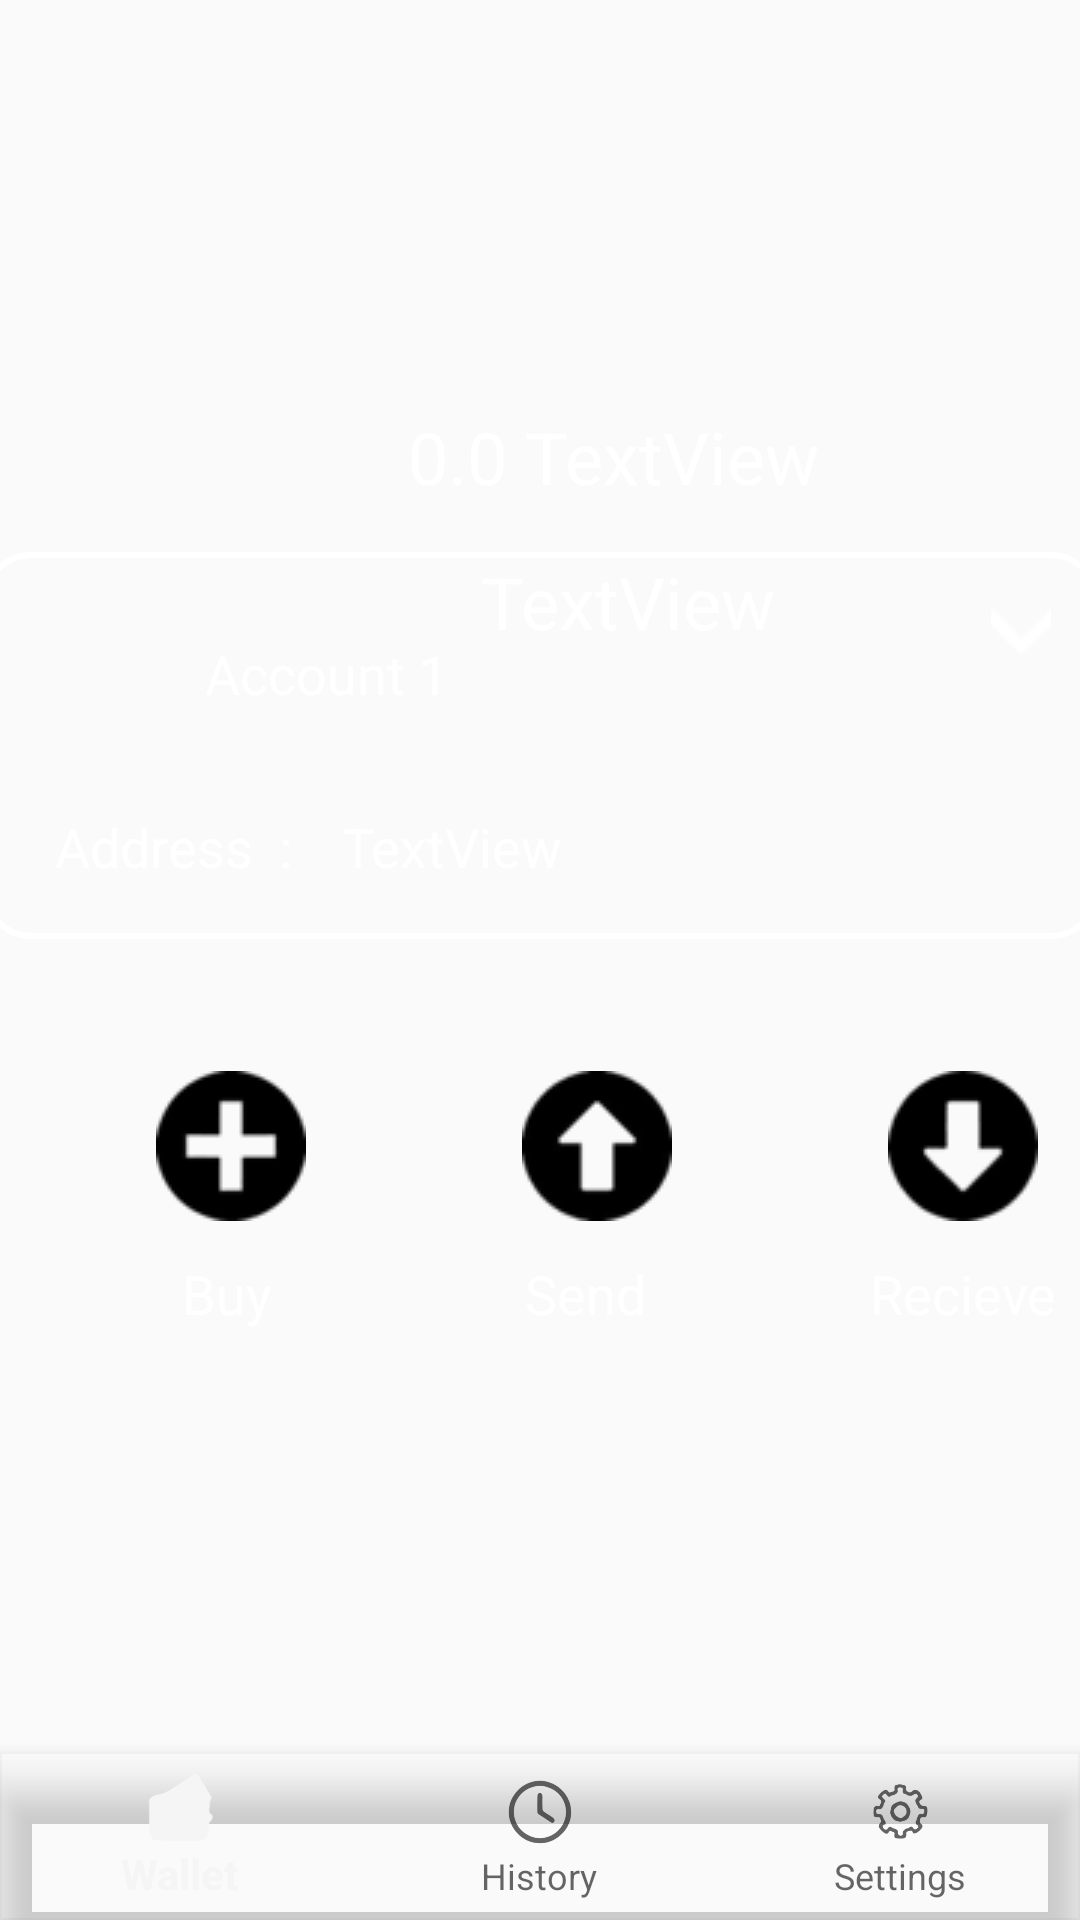

Icon bounding boxes for this 1080px x 1920px phone screenshot, format (x1, y1, x2, y2):
buyicon: (156, 1071, 306, 1221)
